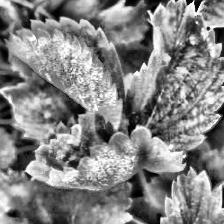Powdery Mildew Leaf: (124, 0, 224, 157), (4, 17, 126, 133), (26, 111, 186, 191)
